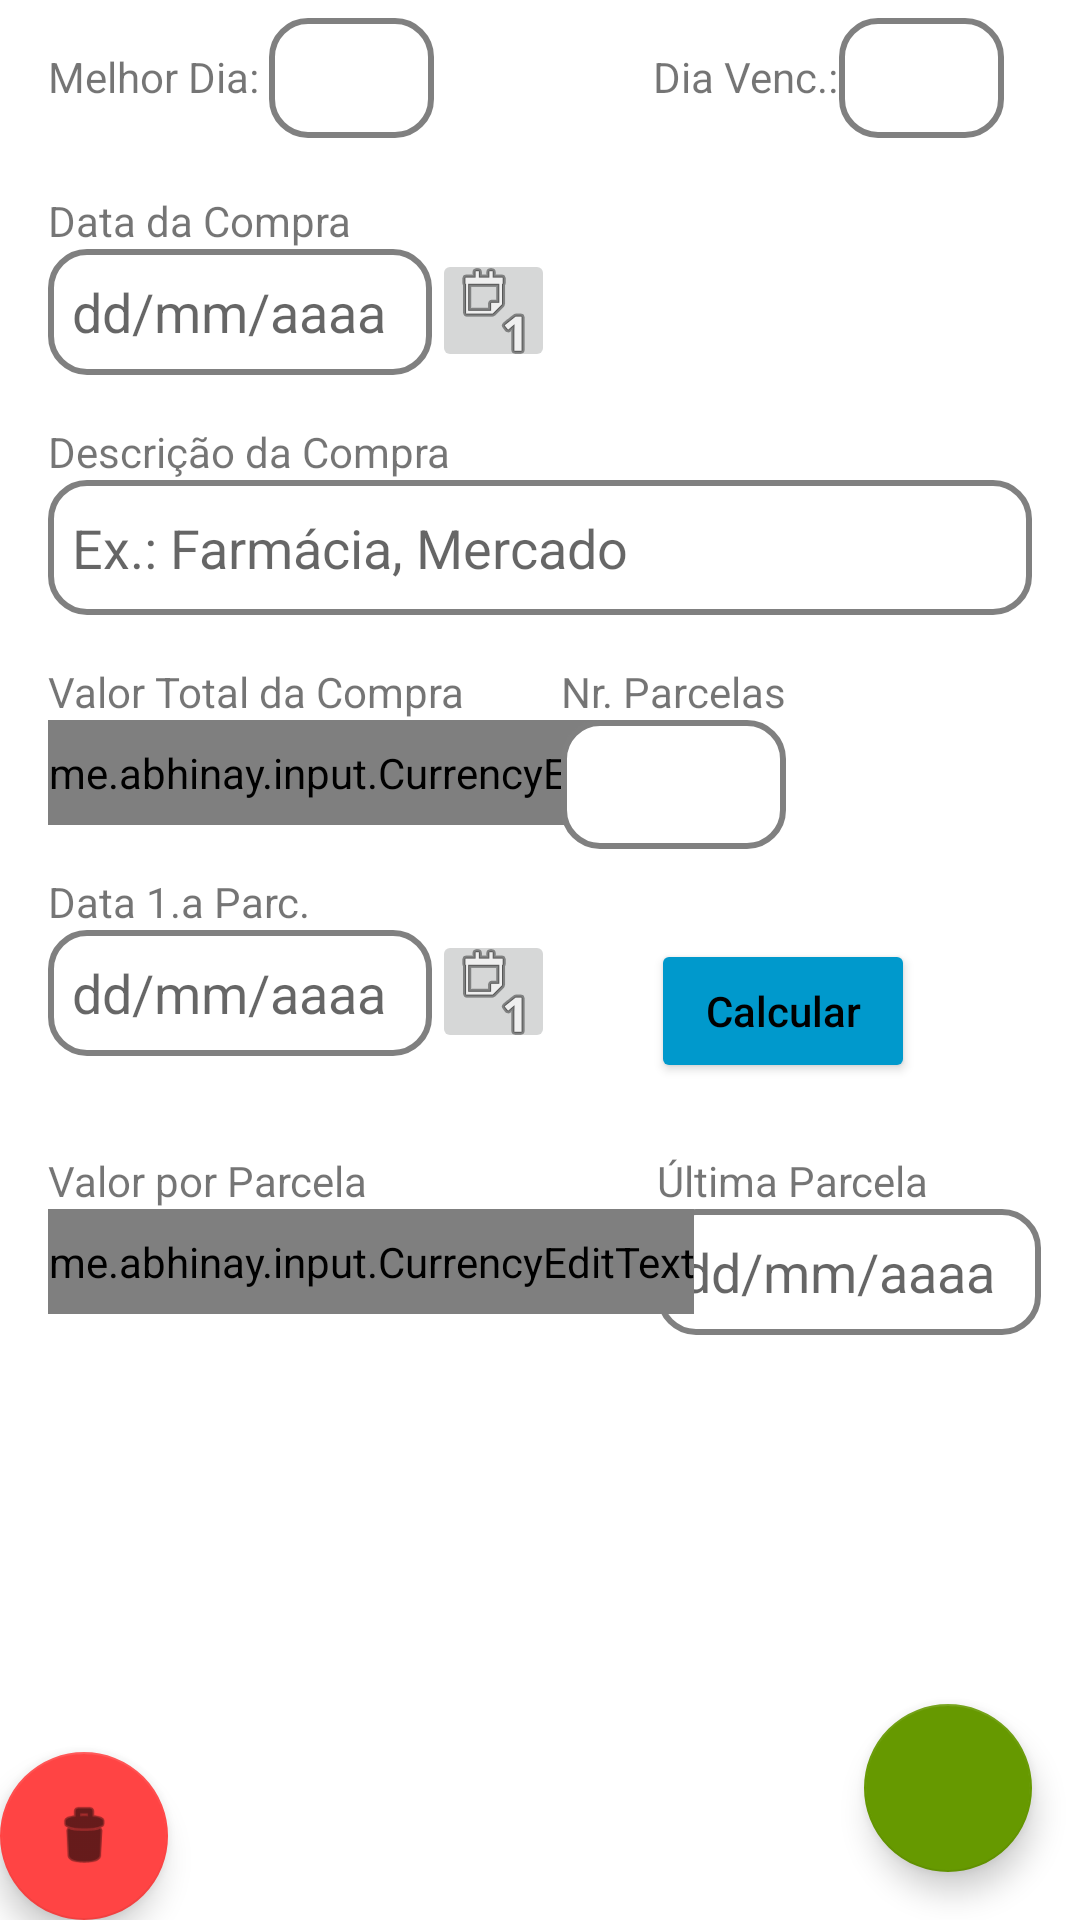

Icons on this 1080x1920 Android screen, each with the point to tap as [x,y]:
day: [493,310], [493,991]
delete: [84,1836]
